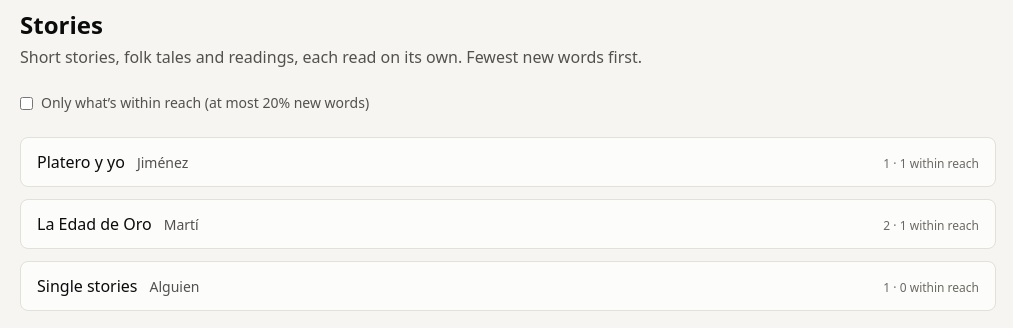
it: The stories library › can show only what is within reach
Check: the text "La Edad de Oro" is shown, box [37,212,152,236]
Click the checkbox labelled "Only what’s within reach (at most 20% new words)" at coordinates (26, 103), box [20,96,33,110]
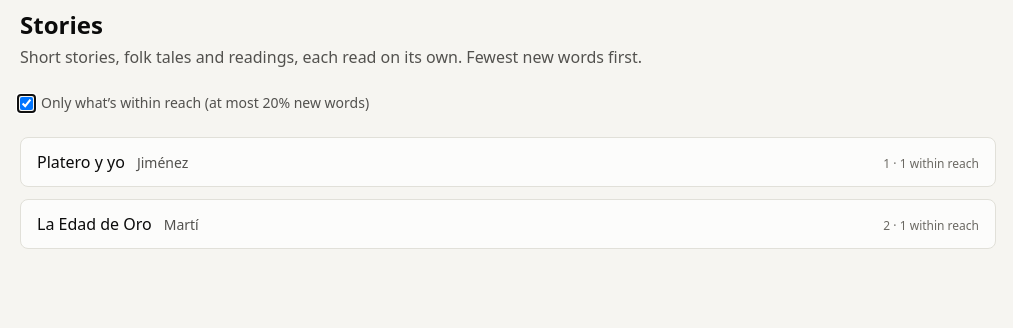
Check: the heading "Single stories" is gone
